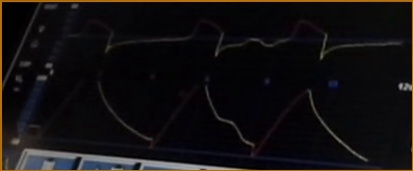Ineffective_effort Flow: (64, 12, 402, 62)
Ineffective_effort Volume: (29, 80, 368, 163)
